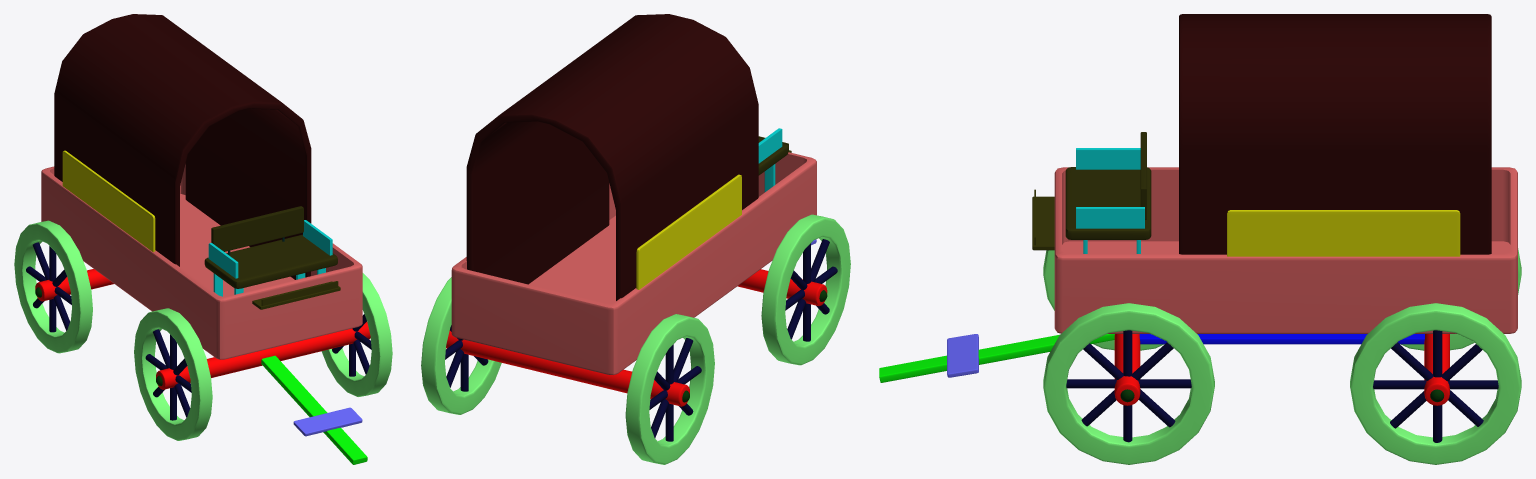
File: 2Mesh_Wagon.fbx
The picture shows the model from 3 angles, left to right: view 1: azimuth 30°, elevation 25°; view 2: azimuth 150°, elevation 25°; view 3: azimuth 270°, elevation 25°; orthographic projection. The views are drawn at different scales.
Parts seen in each view (by area): view 1: polySurface19, polySurface22; view 2: polySurface19, polySurface22; view 3: polySurface19, polySurface22.
Boxes of the visible parts, x1=… form: polySurface19: x1=41, y1=14, x2=362, y2=359; polySurface22: x1=14, y1=220, x2=392, y2=464; polySurface19: x1=451, y1=14, x2=816, y2=374; polySurface22: x1=421, y1=136, x2=850, y2=464; polySurface19: x1=1054, y1=14, x2=1517, y2=333; polySurface22: x1=879, y1=189, x2=1521, y2=464.
Bounding box in the file's own units: 3.7 × 4.85 × 7.49.
